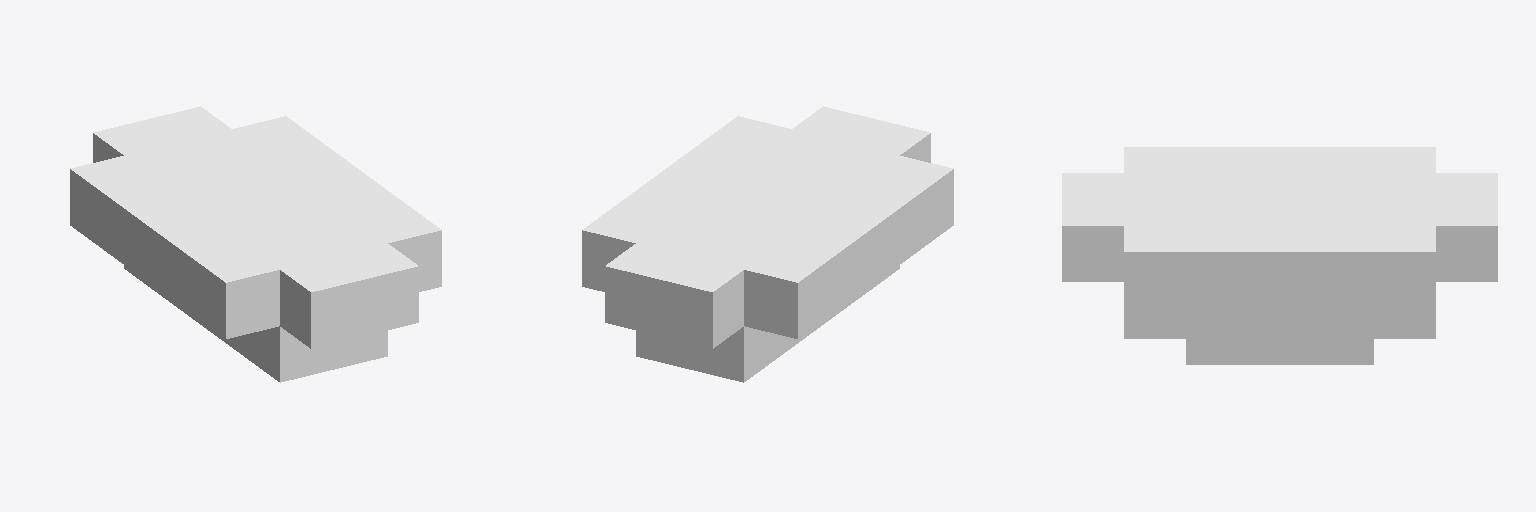
File: bombeman-9-throat.obj
The picture shows the model from 3 angles: view 1: azimuth 30°, elevation 25°; view 2: azimuth 150°, elevation 25°; view 3: azimuth 270°, elevation 25°; orthographic projection.
Visible parts, largest first — view 1: throat; view 2: throat; view 3: throat.
Part boxes in pixels (x1,y1,x2,y2): throat: (70, 106, 441, 382); throat: (582, 106, 953, 382); throat: (1062, 147, 1497, 364).
Size of the model in its own units: 0.4 by 0.2 by 0.7.